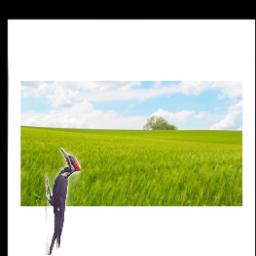Woodpecker: (46, 148, 82, 255)
